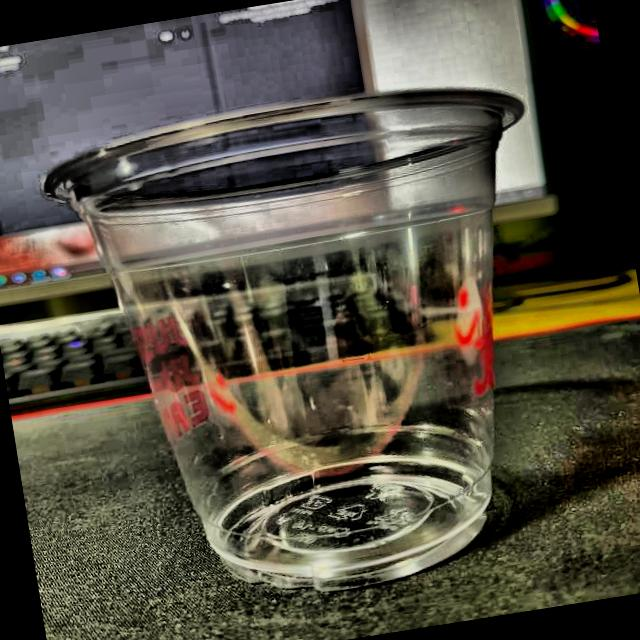plastic cup: (29, 64, 604, 628)
